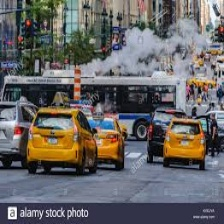smoke: (73, 31, 177, 81)
